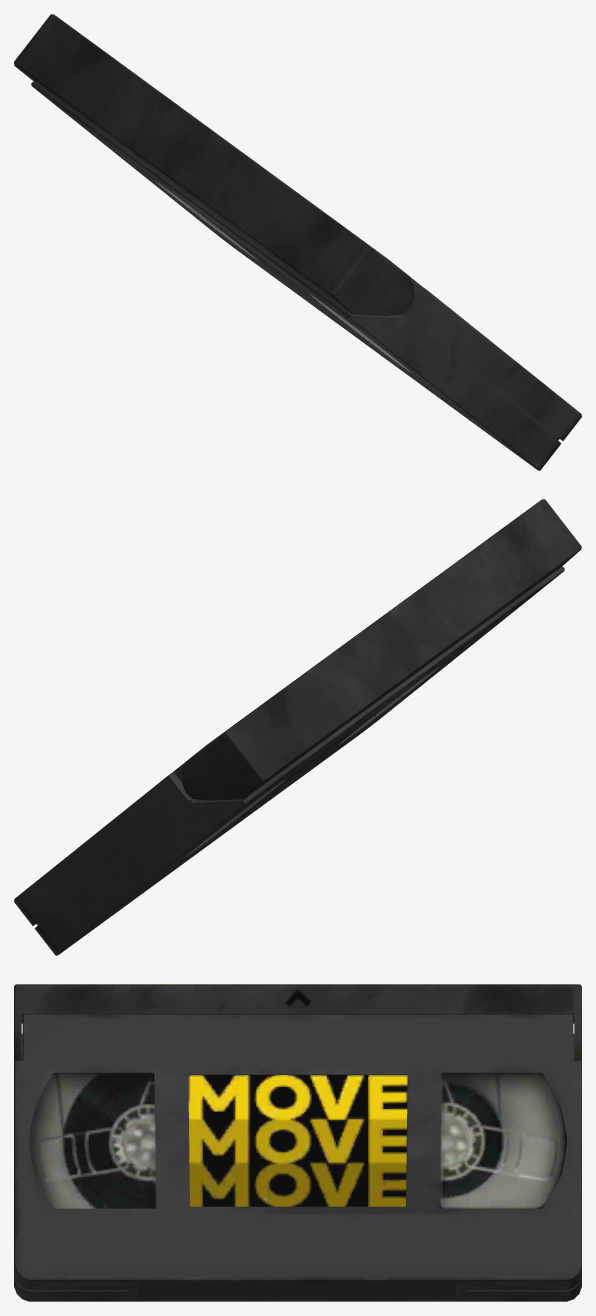
Rendered from Dance_Case_2.glb.
The picture shows the model from 3 angles, top to bottom: view 1: azimuth 30°, elevation 25°; view 2: azimuth 150°, elevation 25°; view 3: azimuth 270°, elevation 25°; orthographic projection. The views are drawn at different scales.
Parts seen in each view (by area): view 1: Dance_Case; view 2: Dance_Case; view 3: Dance_Case.
Part boxes in pixels (box(x1,y1,x2,y2)): Dance_Case: box(14, 14, 581, 470); Dance_Case: box(14, 499, 581, 955); Dance_Case: box(14, 984, 581, 1301).
Size of the model in its own units: 0.2317 by 0.2347 by 0.5025.
1 material, 1 textured.
